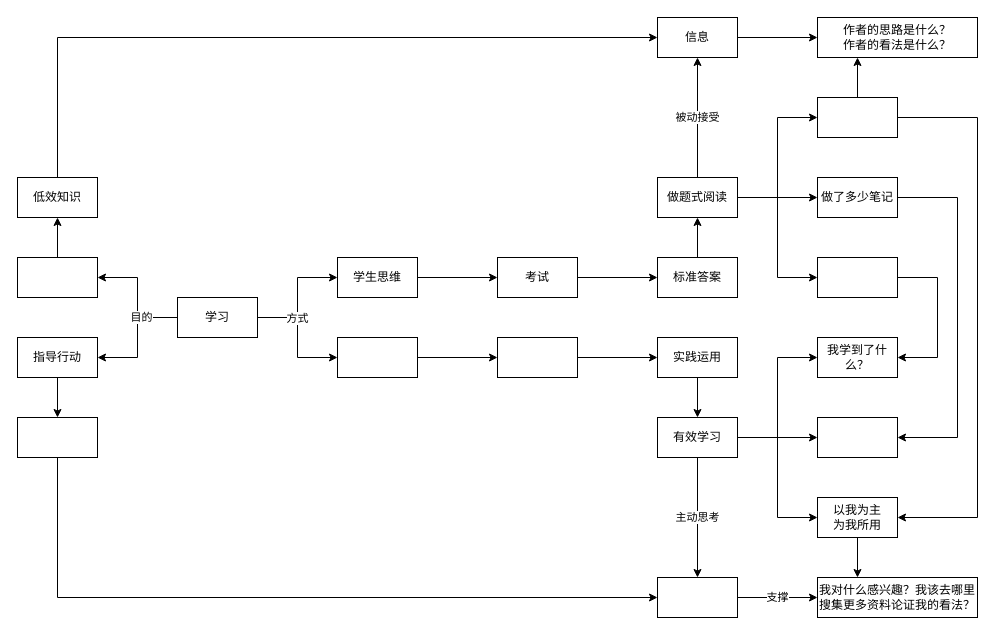
Some shapes in this 1003 by 635 pixel diagram are drawn without their labels. The centre of each missing label's shape, as x and y in pixels:
"主人翁思维" belongs at point (377, 357).
"作者本位思想" belongs at point (857, 117).
"我的看法是什么？" belongs at point (857, 437).
"现实" belongs at point (537, 357).
"理解世界" belongs at point (57, 277).
"读过多少本书" belongs at point (857, 277).
"逻辑" belongs at point (697, 597).
"高效知识" belongs at point (57, 437).
